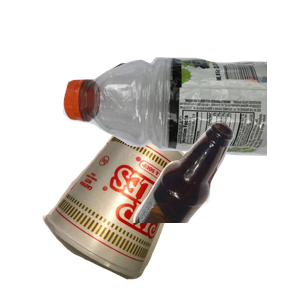glass: (130, 120, 300, 300)
metal: (102, 60, 252, 169)
plastic: (60, 53, 300, 201)
trash: (40, 121, 221, 300)
